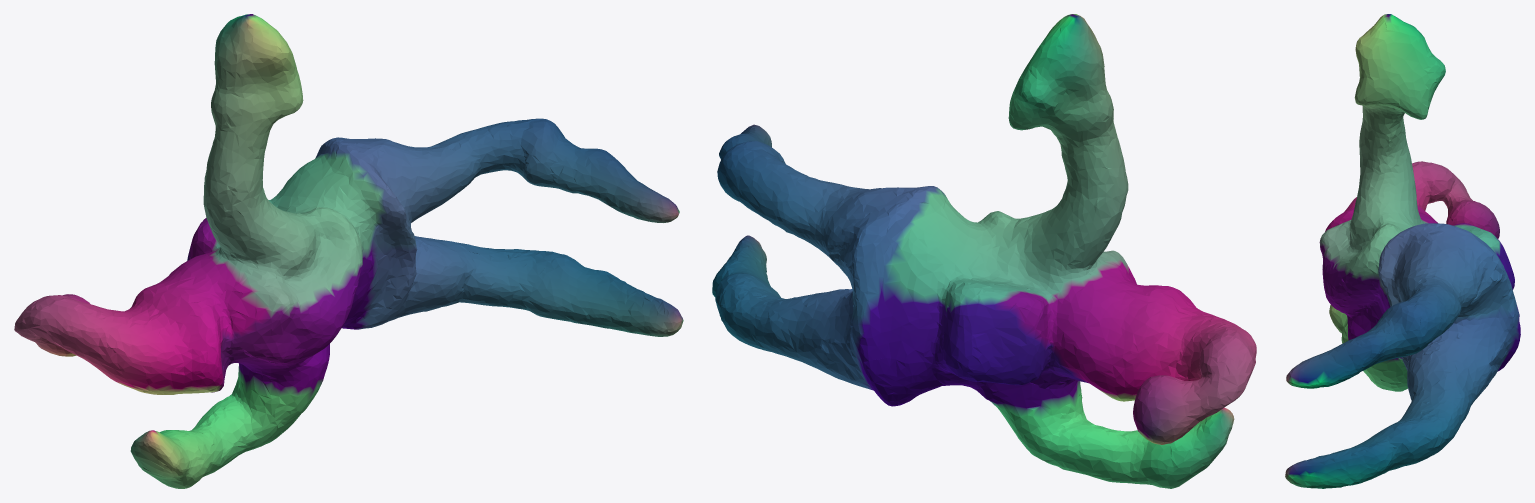
The model's file is santa-2.off.obj.
3 views of the same model, side by side, from view 1: azimuth 30°, elevation 25°; view 2: azimuth 150°, elevation 25°; view 3: azimuth 270°, elevation 25° (orthographic). The views are drawn at different scales.
Bounding box in the file's own units: 1.57 × 1.16 × 0.6493.
